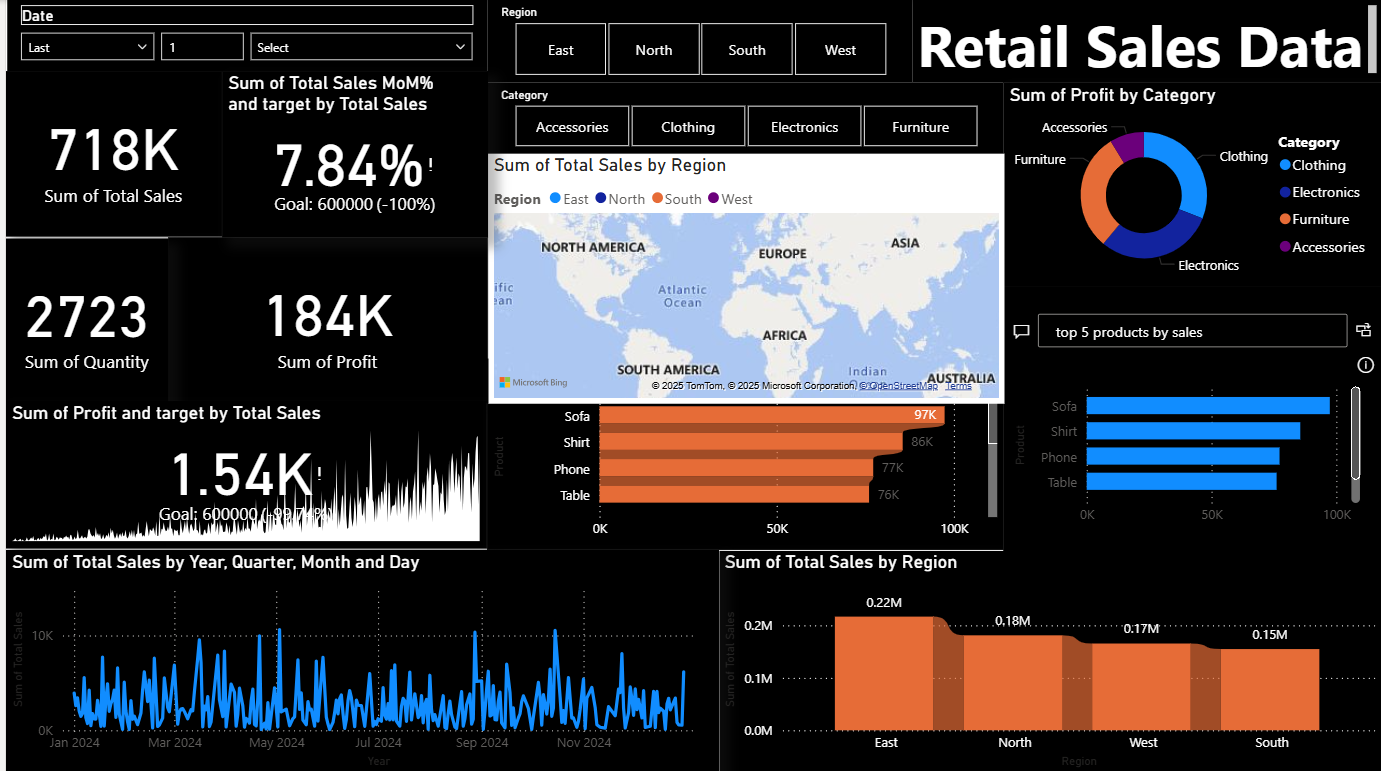

The page's visual inventory and layout, read from the dashboard file:
{"tool":"powerbi","page":{"name":"Page 1","canvas":[1280,720],"ordinal":0},"visuals":[{"type":"card","fields":{"Values":["Sum(Retail_Sales_Data (2).Total Sales)"]},"box":[0,66,200.5,153.7],"z":0},{"type":"textbox","box":[842.9,0,437.1,76.8],"z":1000},{"type":"card","fields":{"Values":["Sum(Retail_Sales_Data (2).Profit)"]},"box":[151.3,220.9,296.6,153.7],"z":2000},{"type":"card","fields":{"Values":["Sum(Retail_Sales_Data (2).Quantity)"]},"box":[0,222.1,151.3,152.5],"z":3000},{"type":"kpi","fields":{"TrendLine":["Retail_Sales_Data (2).Total Sales"],"Indicator":["Sum(Retail_Sales_Data (2).Profit)"],"Goal":["Retail_Sales_Data.target"]},"box":[0,373.8,447.1,136.5],"z":4000},{"type":"barChart","fields":{"Y":["Sum(Retail_Sales_Data (2).Total Sales)"],"Category":["Retail_Sales_Data (2).Product"]},"box":[447.9,333.8,480.3,177.7],"z":5000},{"type":"columnChart","fields":{"Category":["Retail_Sales_Data (2).Region"],"Y":["Sum(Retail_Sales_Data (2).Total Sales)"]},"box":[662.8,511.5,617.2,208.9],"z":6000},{"type":"donutChart","fields":{"Y":["Sum(Retail_Sales_Data (2).Profit)"],"Category":["Retail_Sales_Data (2).Category"]},"box":[928.2,76.8,351.8,189.7],"z":7000},{"type":"lineChart","fields":{"Y":["Sum(Retail_Sales_Data (2).Total Sales)"],"Category":["Retail_Sales_Data (2).Date.Variation.Date Hierarchy.Year","Retail_Sales_Data (2).Date.Variation.Date Hierarchy.Quarter","Retail_Sales_Data (2).Date.Variation.Date Hierarchy.Month","Retail_Sales_Data (2).Date.Variation.Date Hierarchy.Day"]},"box":[0,511.5,662.8,208.9],"z":8000},{"type":"qnaVisual","box":[928.2,266.6,351.8,246.2],"z":9000},{"type":"slicer","fields":{"Values":["Retail_Sales_Data (2).Category"]},"box":[447.9,76.8,480.3,66],"z":10000},{"type":"slicer","fields":{"Values":["Retail_Sales_Data (2).Region"]},"box":[447.9,0,395,76.8],"z":11000},{"type":"slicer","fields":{"Values":["Retail_Sales_Data.Date"]},"box":[1.2,0,446.7,66],"z":12000},{"type":"filledMap","fields":{"Series":["Retail_Sales_Data.Region"]},"box":[448.9,143.4,479.6,232.1],"z":13000},{"type":"kpi","fields":{"Goal":["Retail_Sales_Data.target"],"Indicator":["Retail_Sales_Data.Sum of Total Sales MoM%"],"TrendLine":["Retail_Sales_Data.Total Sales"]},"box":[201,66,247,154],"z":14000}]}

Visuals, with their boxes in screenshot pixels (x1, y1, x2, y2), scaled from the page's 1280x720 canvas onto the 1381x771 screenshot:
card - Sum(Retail_Sales_Data (2).Total Sales): pyautogui.locateOnScreen(0, 71, 216, 235)
textbox: pyautogui.locateOnScreen(909, 0, 1380, 82)
card - Sum(Retail_Sales_Data (2).Profit): pyautogui.locateOnScreen(163, 237, 483, 401)
card - Sum(Retail_Sales_Data (2).Quantity): pyautogui.locateOnScreen(0, 238, 163, 401)
kpi - Retail_Sales_Data (2).Total Sales x Sum(Retail_Sales_Data (2).Profit): pyautogui.locateOnScreen(0, 400, 482, 546)
barChart - Sum(Retail_Sales_Data (2).Total Sales) x Retail_Sales_Data (2).Product: pyautogui.locateOnScreen(483, 357, 1001, 548)
columnChart - Retail_Sales_Data (2).Region x Sum(Retail_Sales_Data (2).Total Sales): pyautogui.locateOnScreen(715, 548, 1380, 770)
donutChart - Sum(Retail_Sales_Data (2).Profit) x Retail_Sales_Data (2).Category: pyautogui.locateOnScreen(1001, 82, 1380, 285)
lineChart - Sum(Retail_Sales_Data (2).Total Sales) x Retail_Sales_Data (2).Date.Variation.Date Hierarchy.Year: pyautogui.locateOnScreen(0, 548, 715, 770)
qnaVisual: pyautogui.locateOnScreen(1001, 285, 1380, 549)
slicer - Retail_Sales_Data (2).Category: pyautogui.locateOnScreen(483, 82, 1001, 153)
slicer - Retail_Sales_Data (2).Region: pyautogui.locateOnScreen(483, 0, 909, 82)
slicer - Retail_Sales_Data.Date: pyautogui.locateOnScreen(1, 0, 483, 71)
filledMap - Retail_Sales_Data.Region: pyautogui.locateOnScreen(484, 154, 1002, 402)
kpi - Retail_Sales_Data.target x Retail_Sales_Data.Sum of Total Sales MoM%: pyautogui.locateOnScreen(217, 71, 483, 236)
